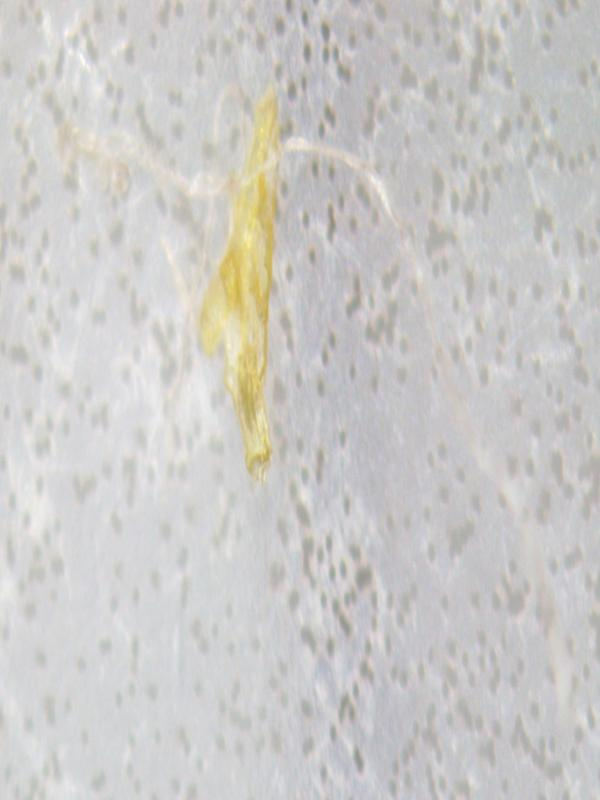microplastic: (2, 2, 598, 796), (197, 81, 282, 484)
